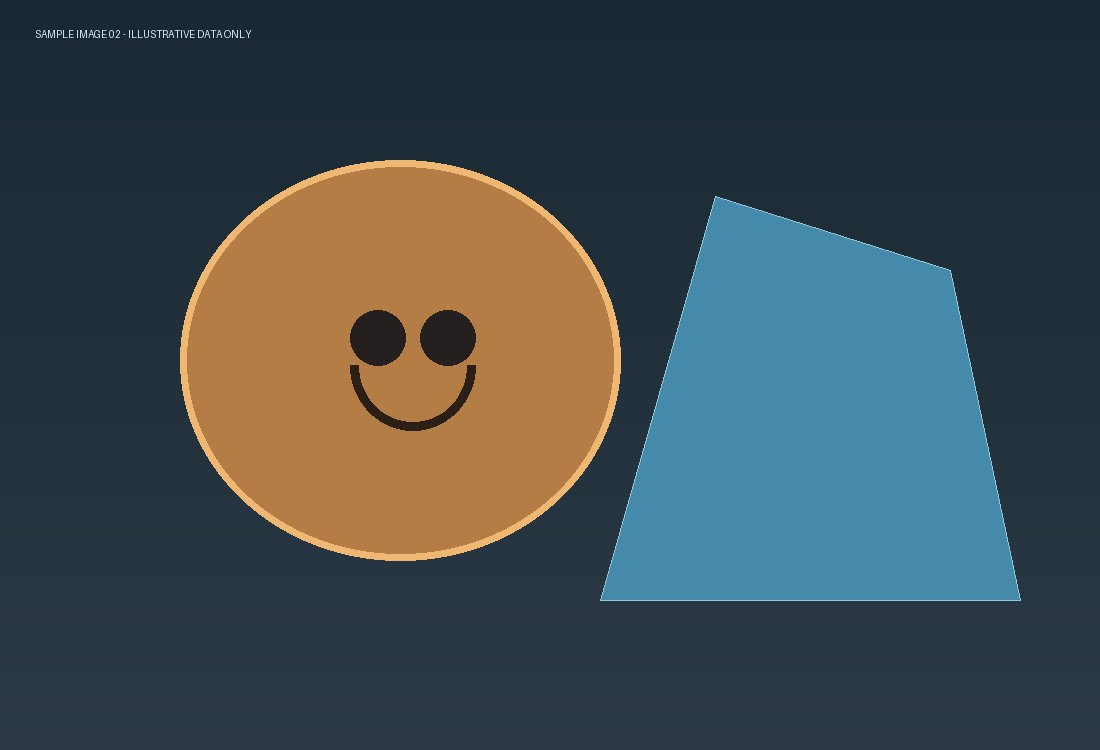blue_shape: (600, 195, 1023, 600)
round_object: (176, 161, 594, 559)
